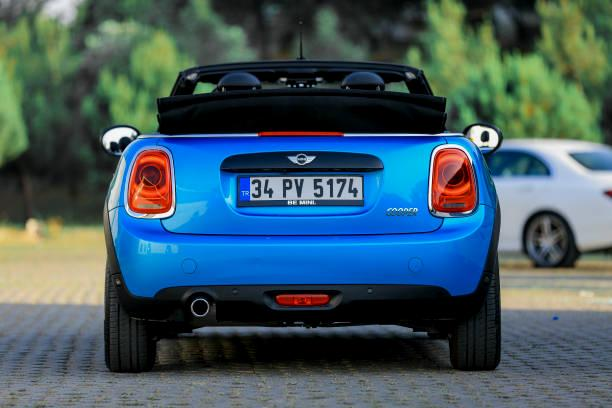mini: (280, 146, 329, 176)
